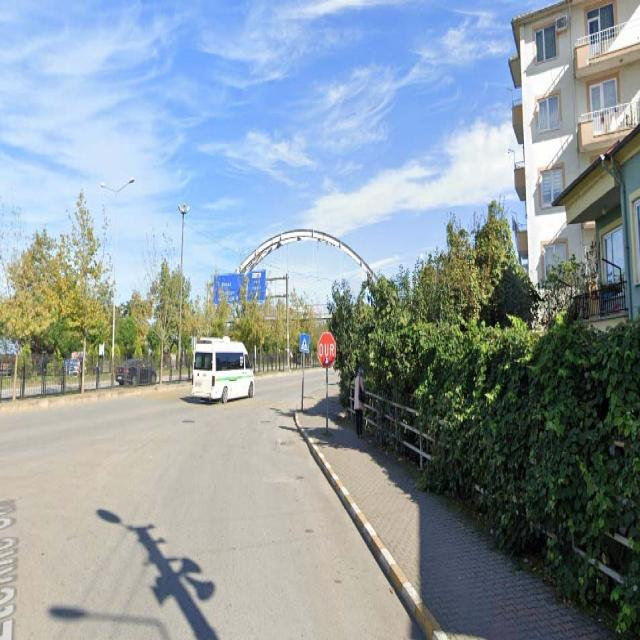dur: (318, 331, 335, 367)
